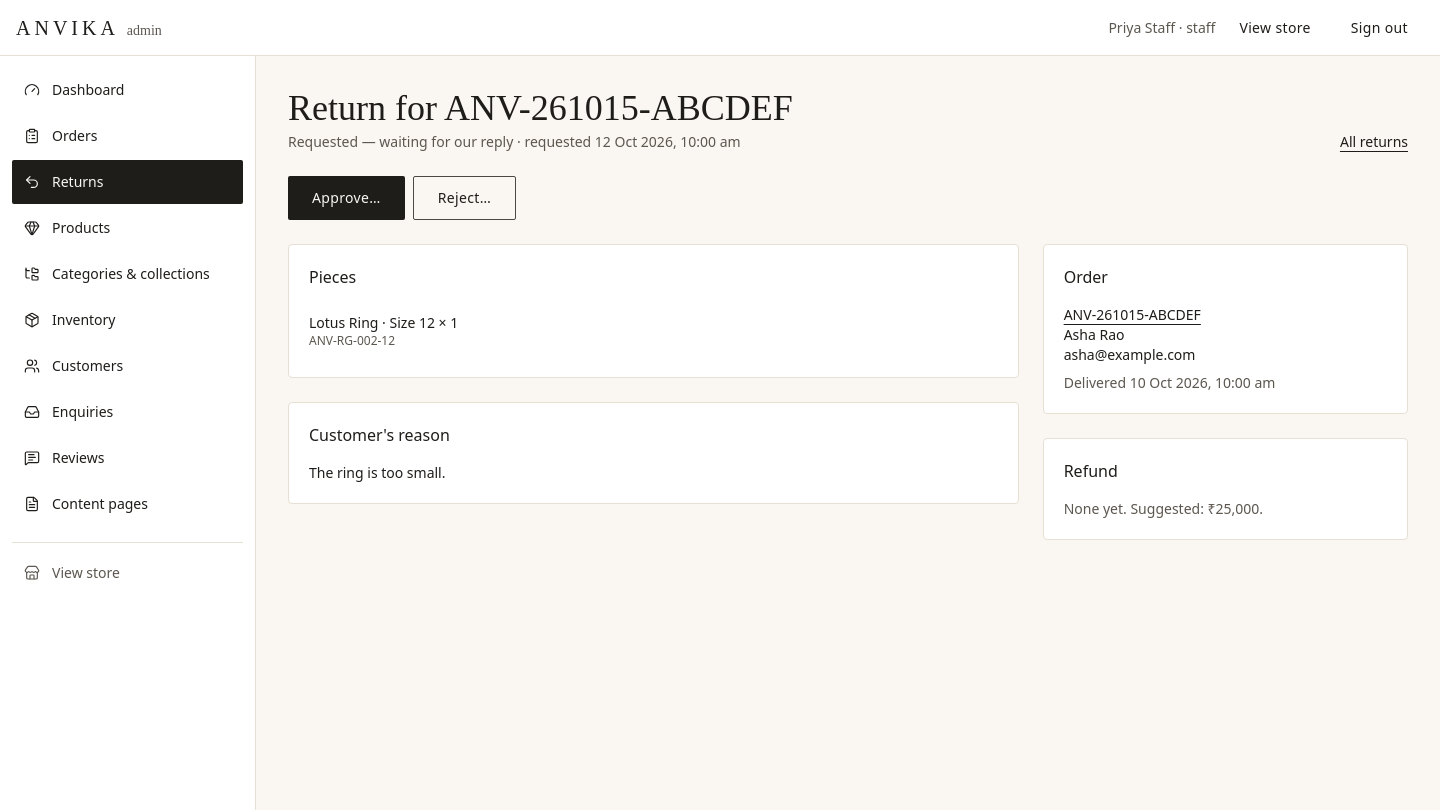
Test: return requests › offers only the actions the backend allows and requires a reason to reject
The width and height of the screenshot is (1440, 810).
Expected: the heading "Return for ANV-261015-ABCDEF" is shown, left=288, top=88, right=793, bottom=128
Expected: the button "Mark as received" is not shown
A server refusal is shown inside the dialog, which stays open.
Click the button "Reject…" at (464, 198), box left=413, top=176, right=516, bottom=220
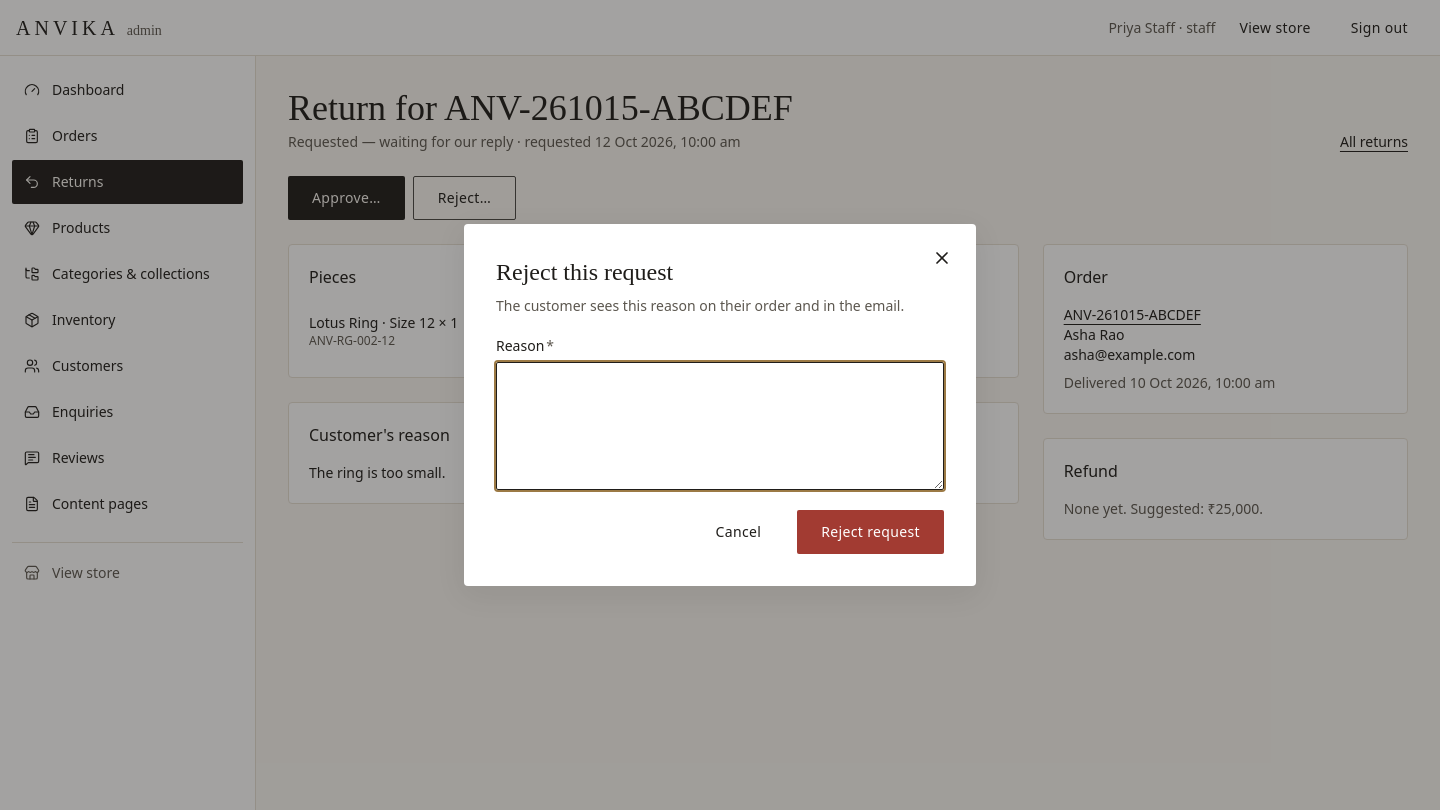
Type "Resized piece" into the text box labelled "Reason*" at (720, 426), box left=496, top=362, right=944, bottom=490
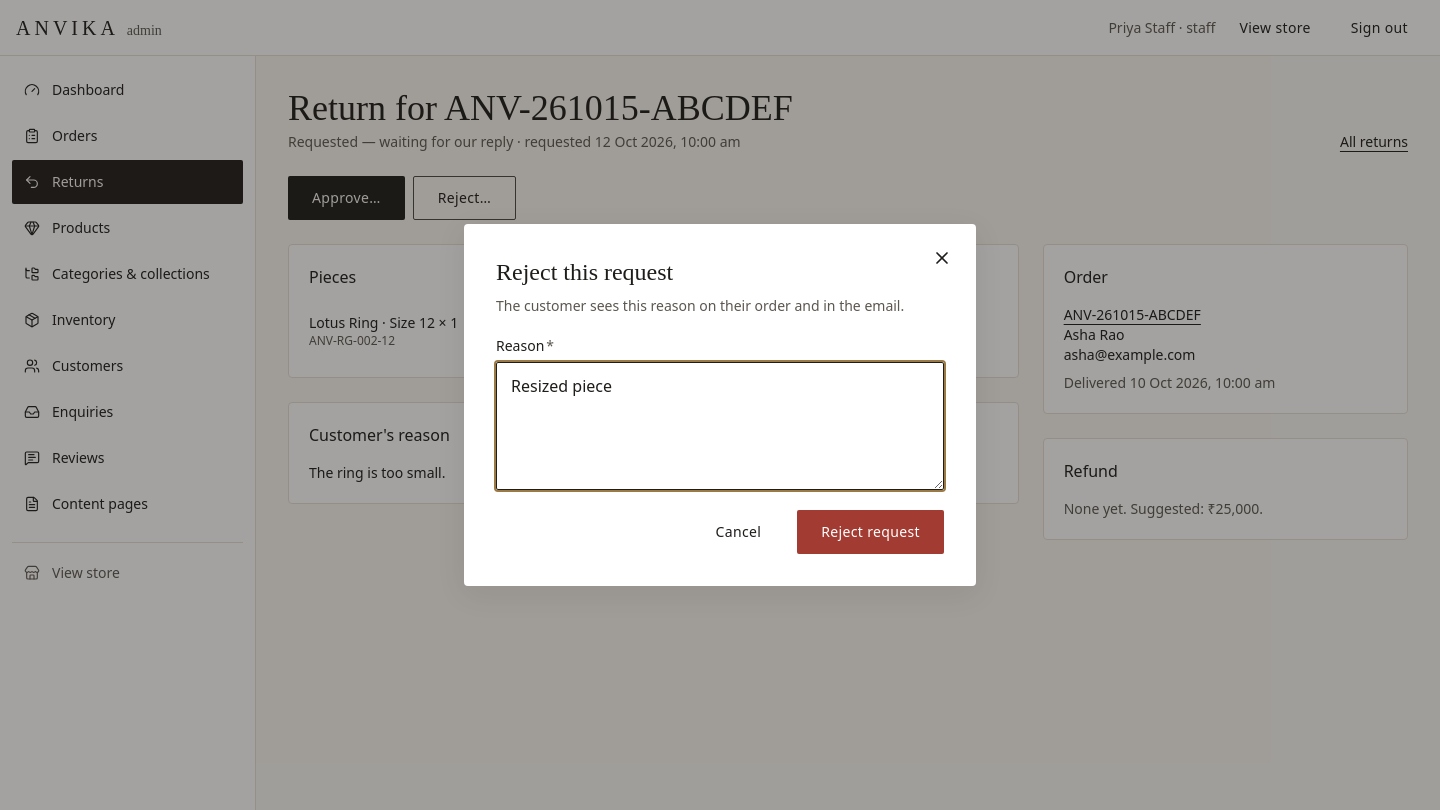
Click the button "Reject request" at (871, 532), box left=797, top=510, right=944, bottom=554
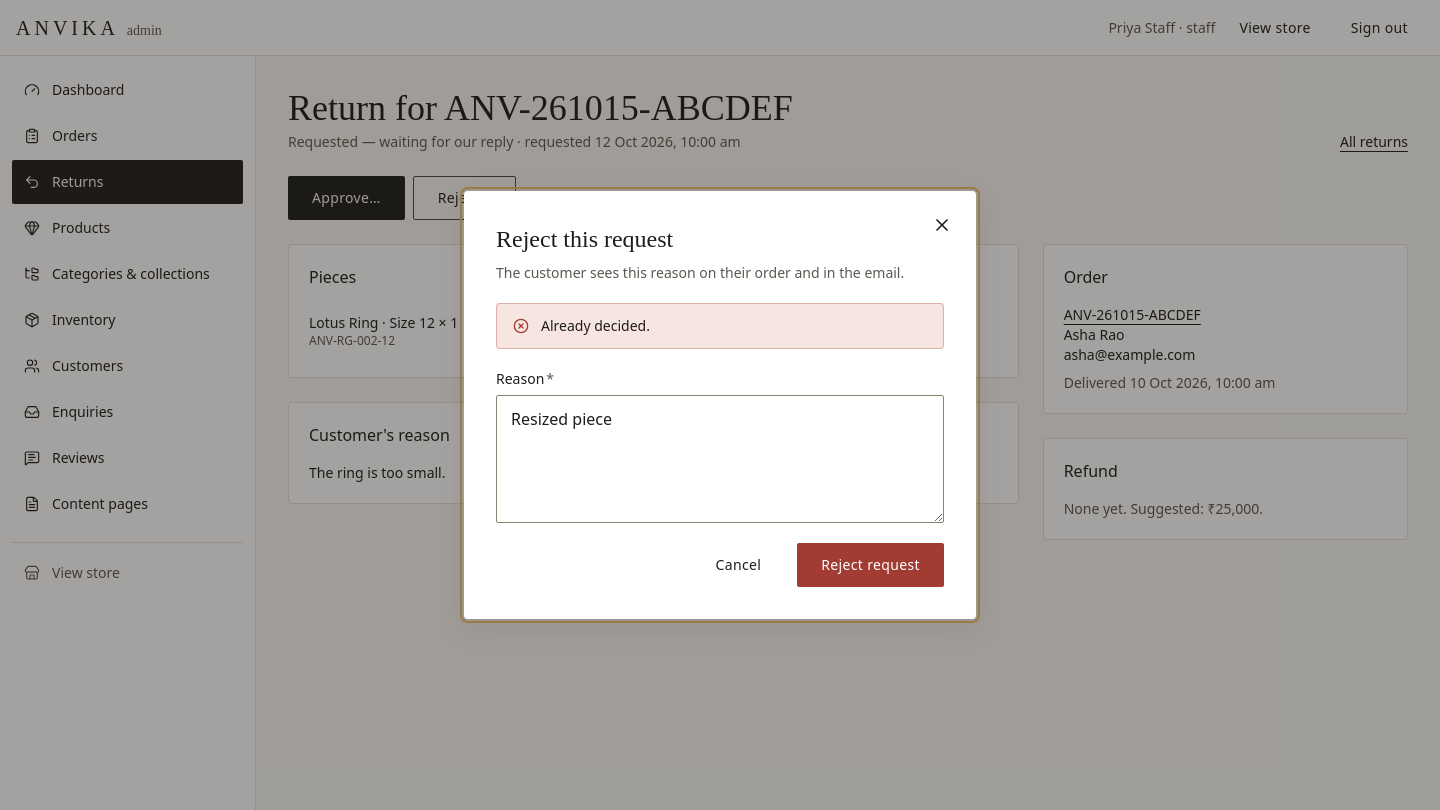
Expected: the text "Already decided." is shown, left=541, top=316, right=650, bottom=336
Click the button "Cancel" at (738, 565), box left=692, top=543, right=785, bottom=587
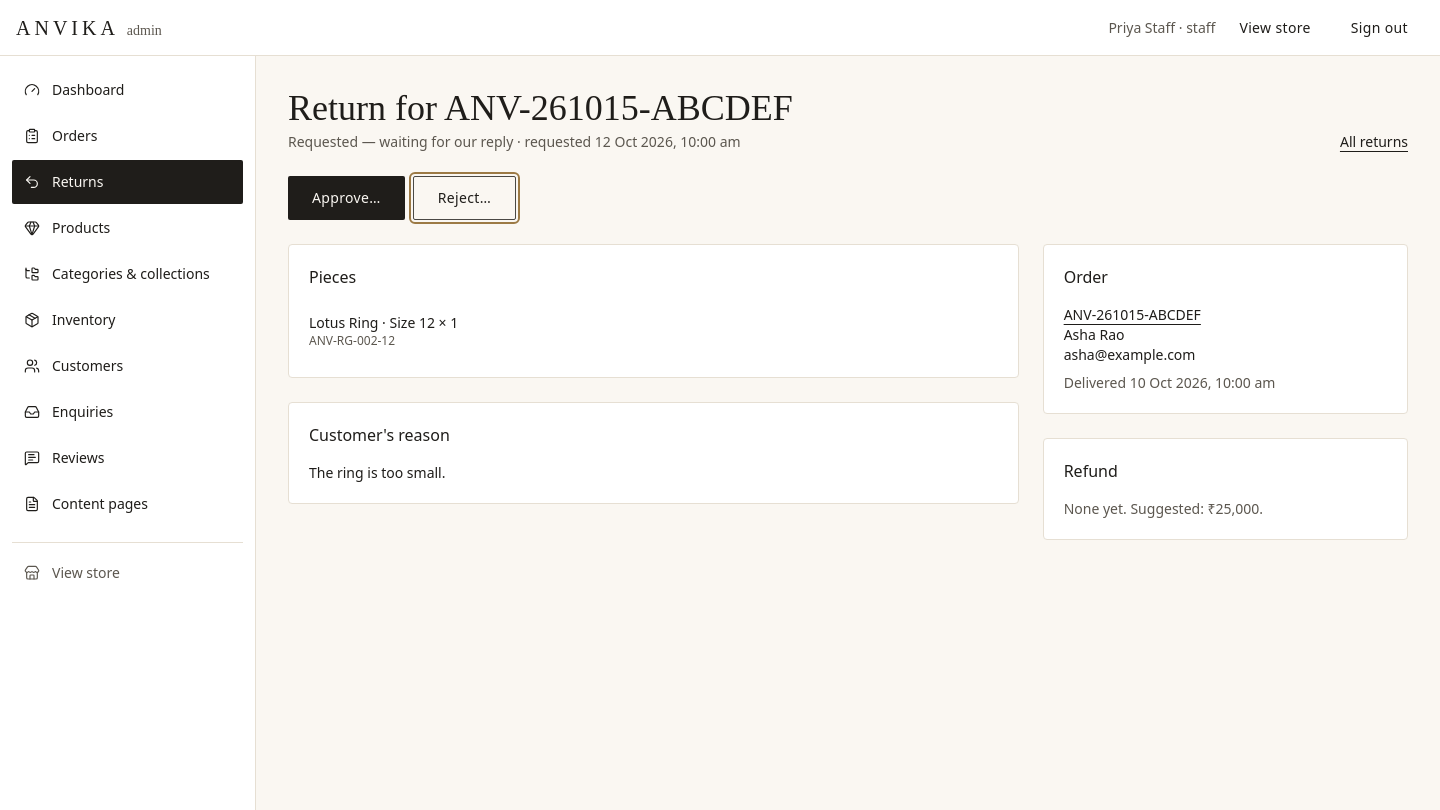
Click the button "Approve…" at (346, 198), box left=288, top=176, right=405, bottom=220
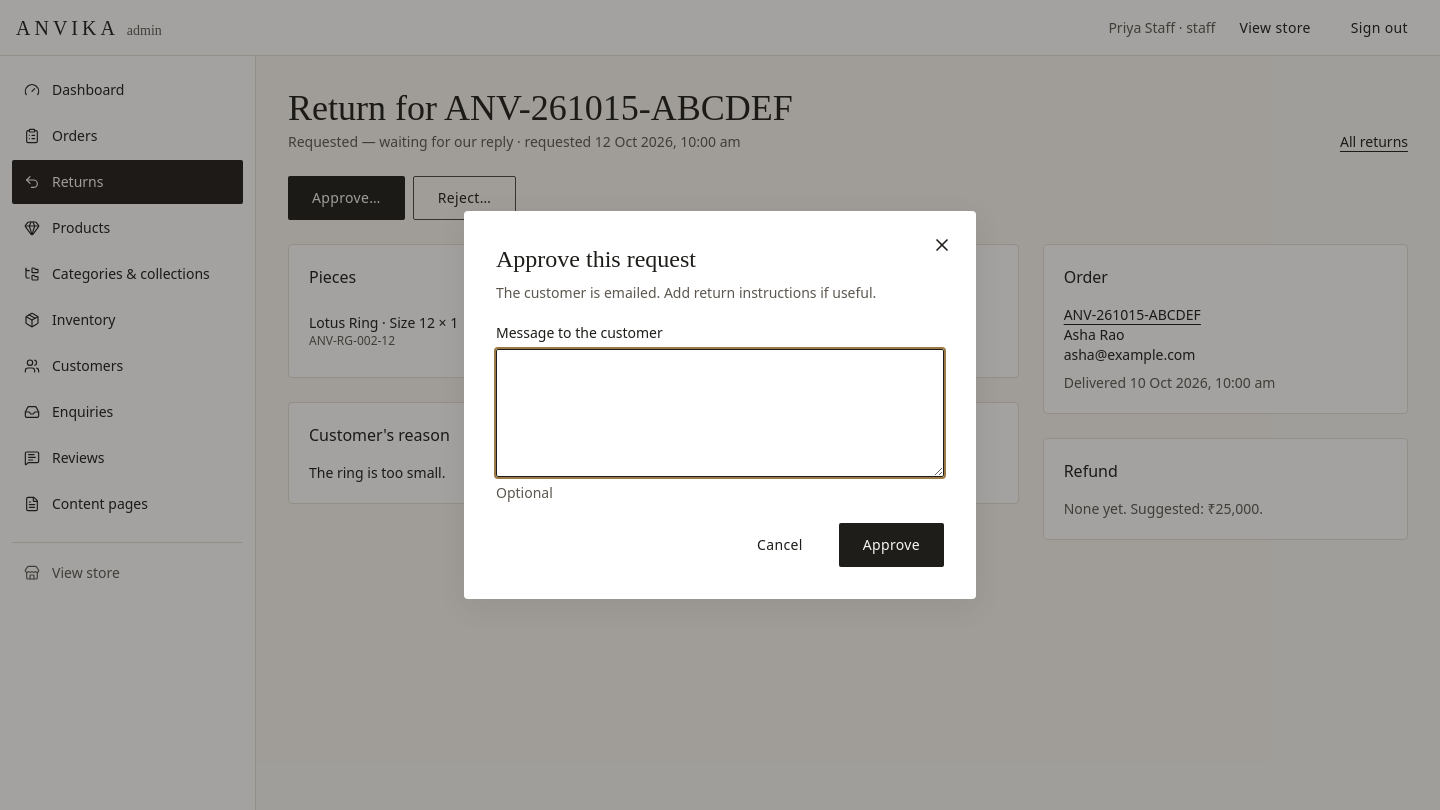
Click the button "Approve" at (891, 545), box left=839, top=523, right=944, bottom=567
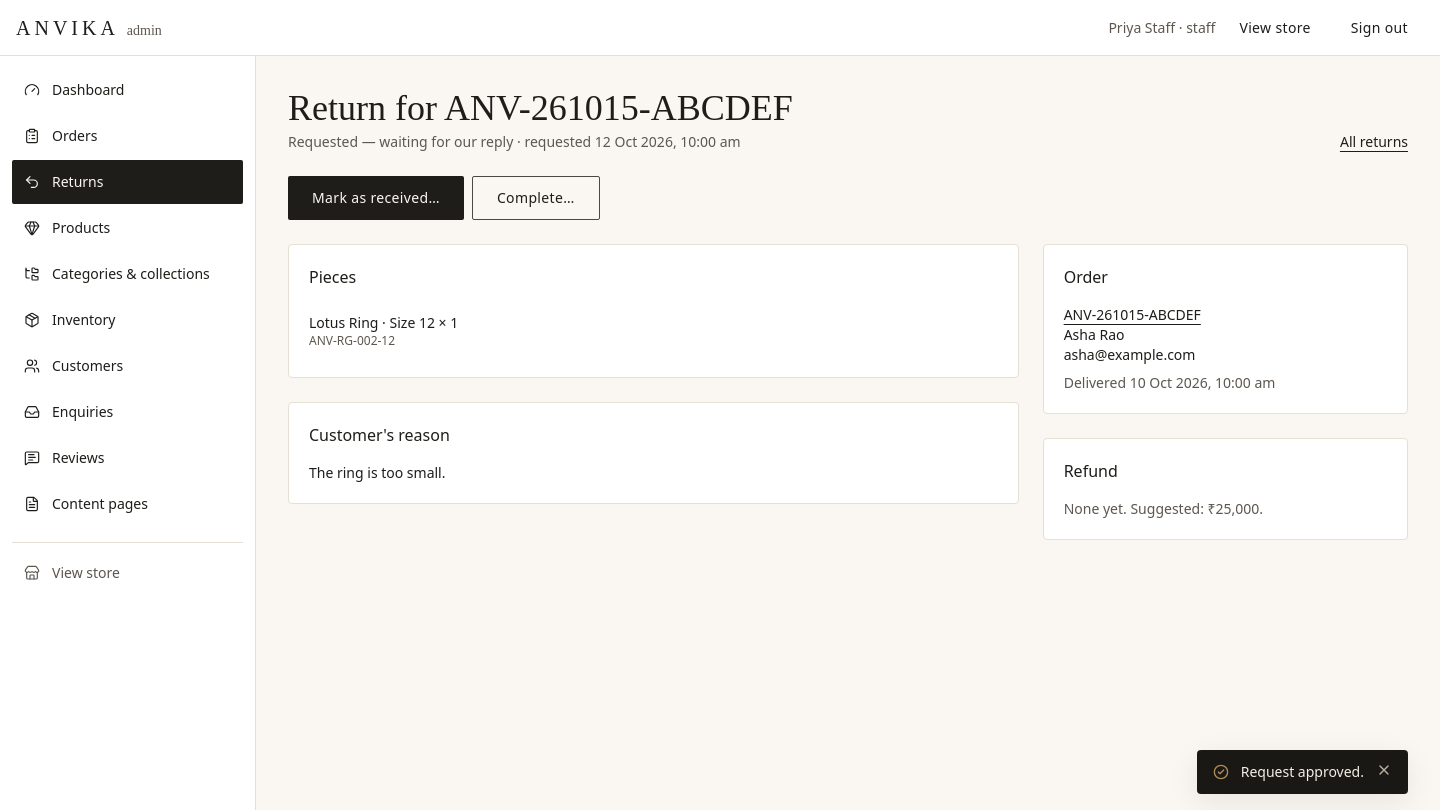
Expected: the button "Mark as received…" is shown, left=288, top=176, right=464, bottom=220
